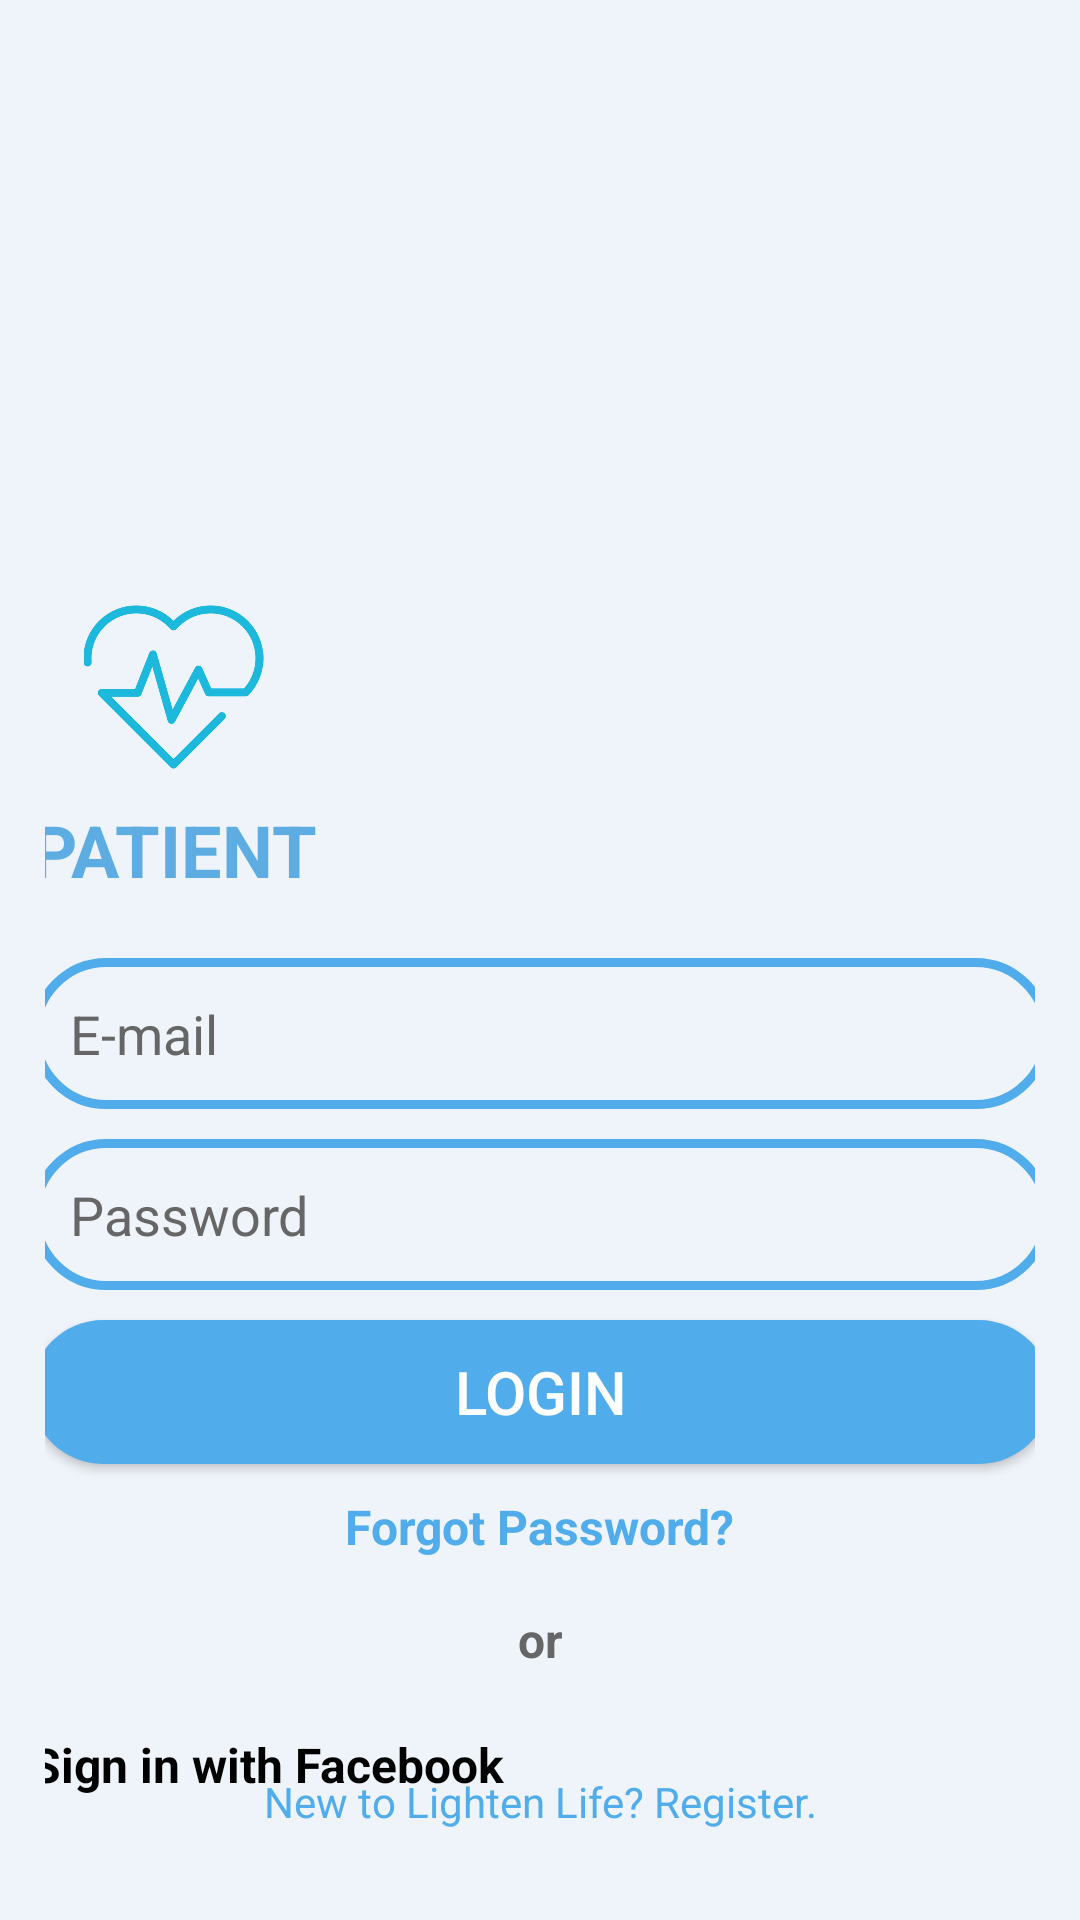

Where icons sit on this 1080px×1920px app screen, as (x1, y1, x2, y2):
Heart Rate Icon: (84, 605, 264, 769)
